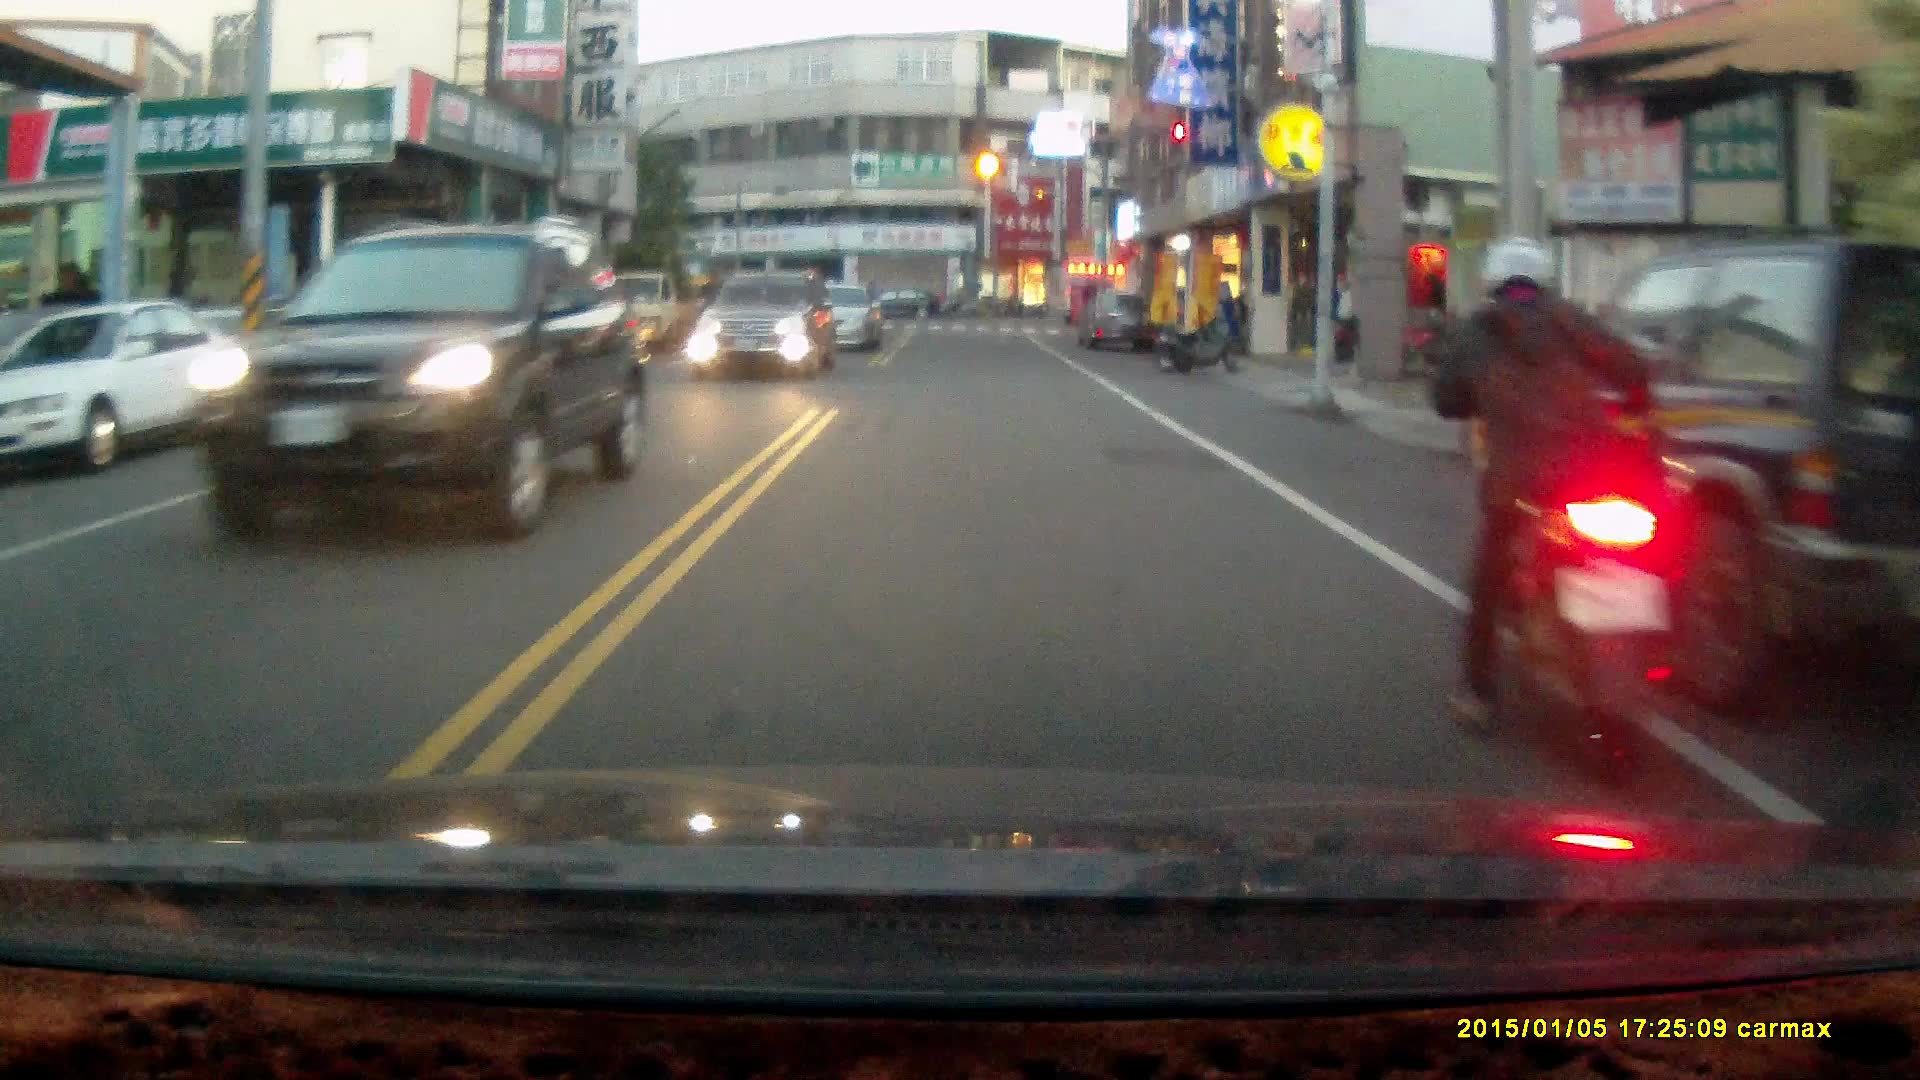rider: (1421, 238, 1691, 787)
vehicle: (1496, 239, 1920, 693), (191, 218, 634, 540), (1, 295, 267, 468), (690, 268, 837, 380), (776, 276, 881, 352), (1077, 290, 1154, 357)
